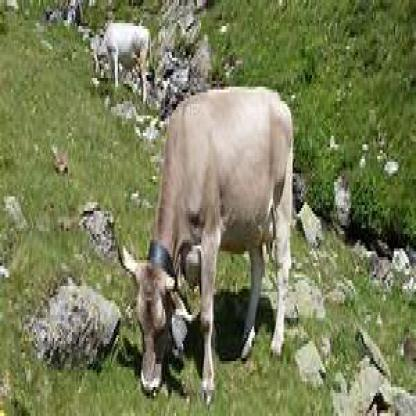cow: (120, 86, 296, 404)
